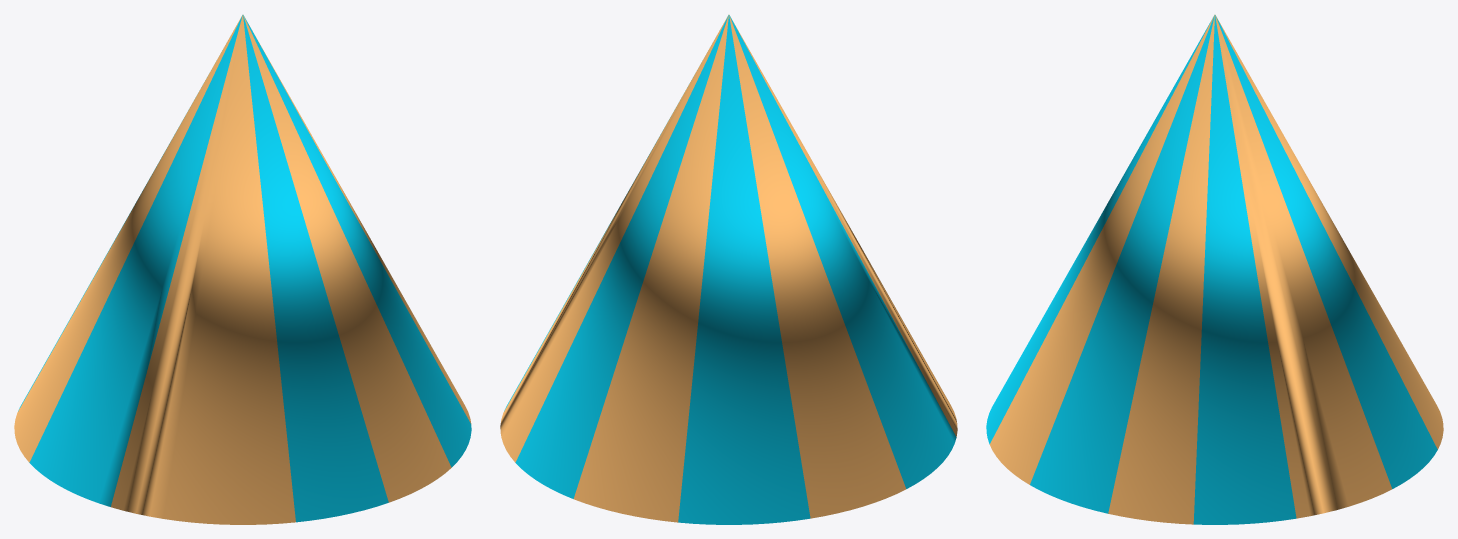
Rendered from party.glb.
3 renders of one model, left to right at view 1: azimuth 30°, elevation 25°; view 2: azimuth 150°, elevation 25°; view 3: azimuth 270°, elevation 25°, orthographic.
Visible parts, largest first — view 1: node-0; view 2: node-0; view 3: node-0.
Part boxes in pixels (x1=…): node-0: x1=14, y1=14, x2=471, y2=524; node-0: x1=500, y1=14, x2=957, y2=524; node-0: x1=986, y1=14, x2=1443, y2=524.
Bounding box in the file's own units: 39.98 × 40 × 39.98.
